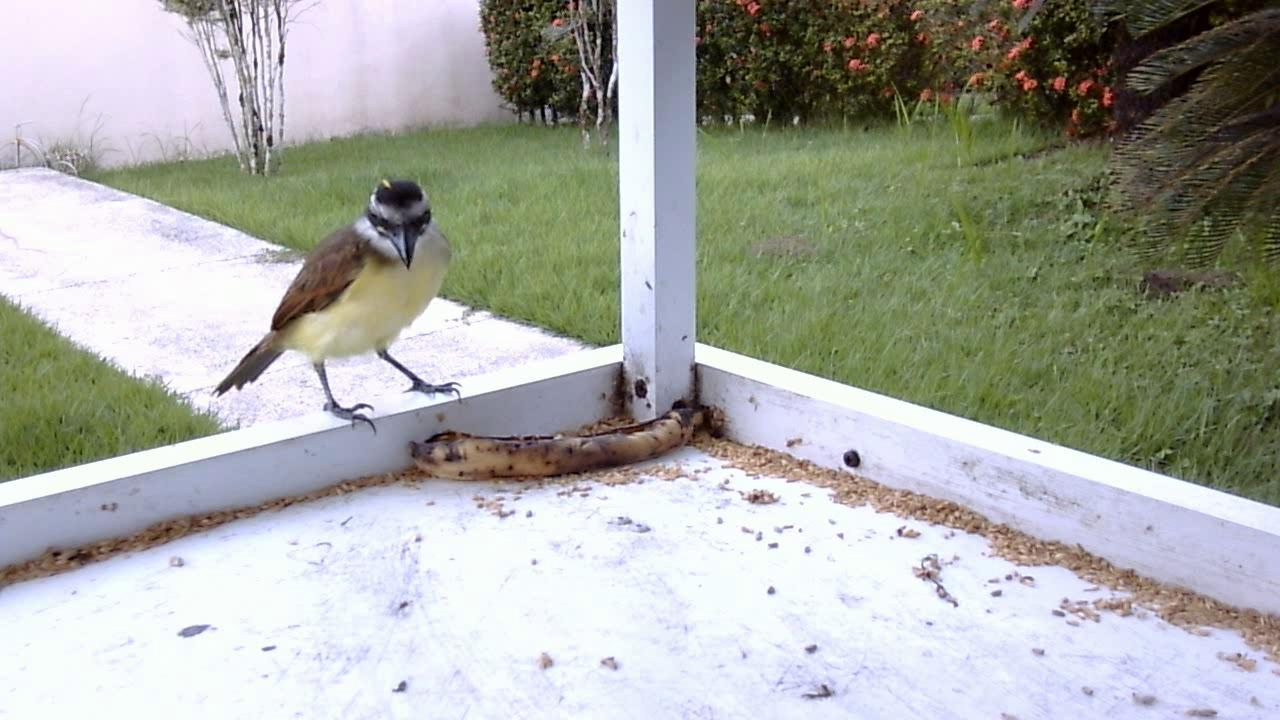bem_te_vi: (215, 177, 465, 444)
